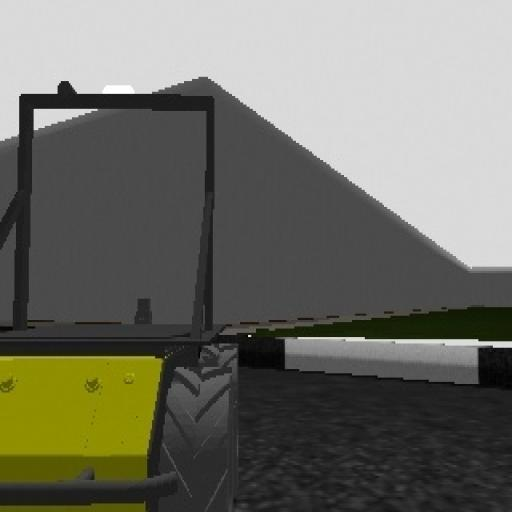huskya200: (0, 54, 249, 512)
